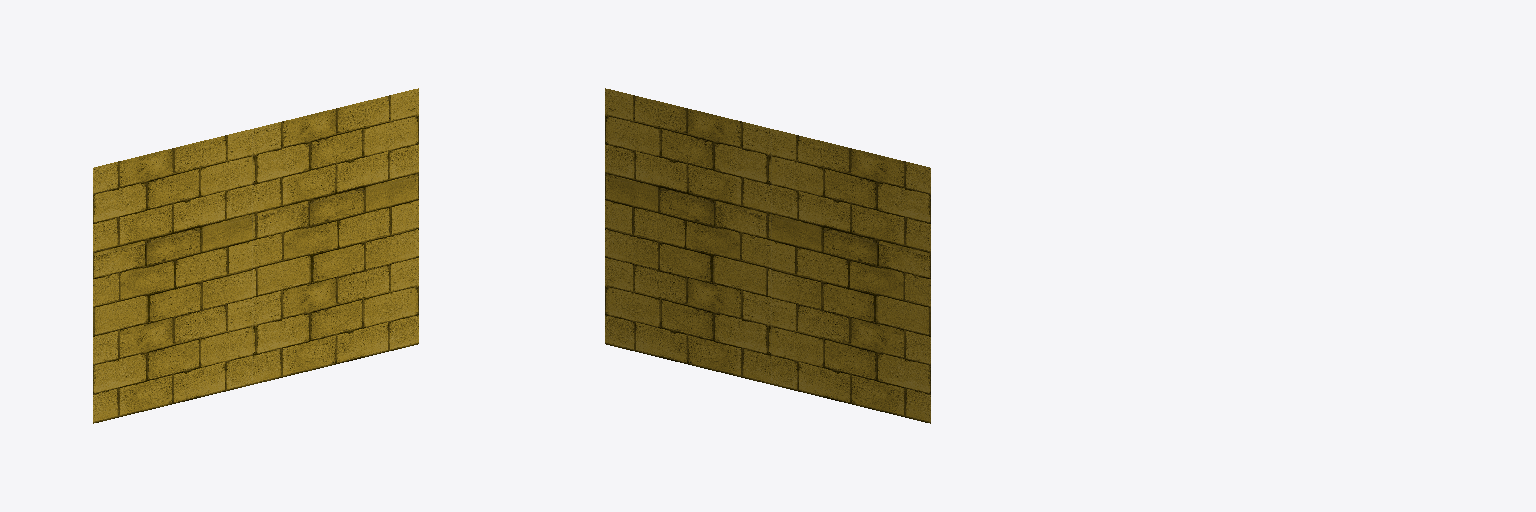
3 renders of one model, left to right at view 1: azimuth 30°, elevation 25°; view 2: azimuth 150°, elevation 25°; view 3: azimuth 270°, elevation 25°, orthographic.
Parts seen in each view (by area): view 1: brick_wall_x2; view 2: brick_wall_x2; view 3: none.
Boxes of the visible parts, x1,y1,x2,y2 form: brick_wall_x2: [93, 88, 418, 423]; brick_wall_x2: [605, 88, 930, 423].
Size of the model in its own units: 400 by 300 by 0.
1 materials, 1 textured.